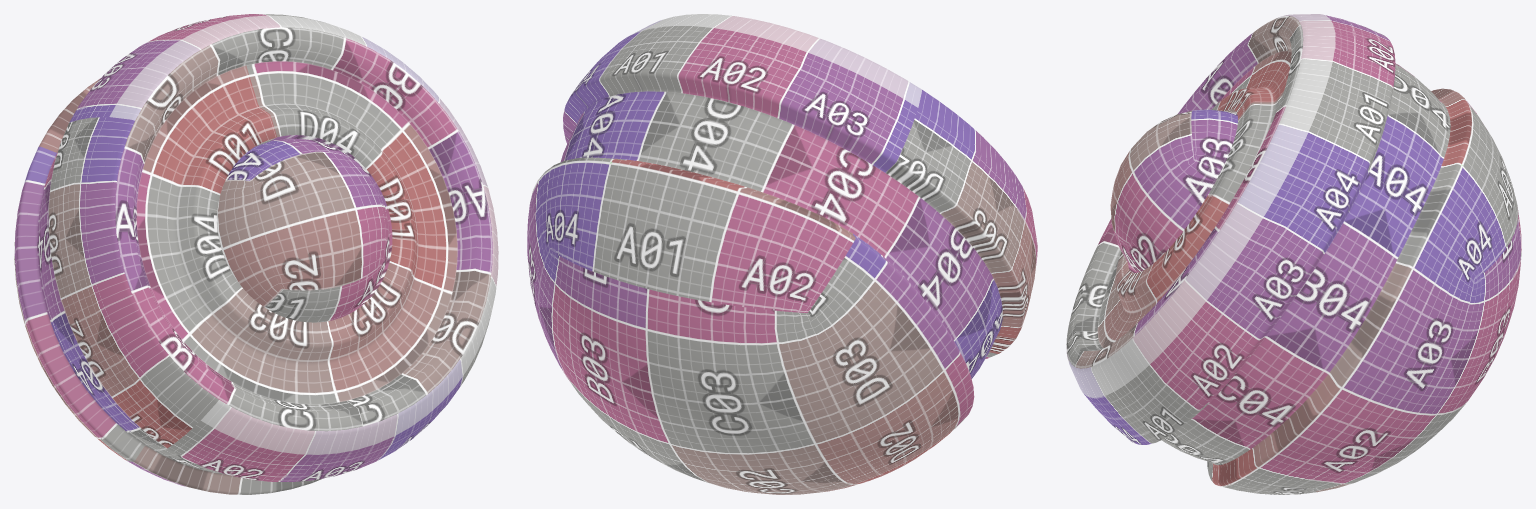
File: placeholder.glb
The picture shows the model from 3 angles, left to right: view 1: azimuth 30°, elevation 25°; view 2: azimuth 150°, elevation 25°; view 3: azimuth 270°, elevation 25°; orthographic projection. The views are drawn at different scales.
Visible parts, largest first — view 1: Cube.004; view 2: Cube.004; view 3: Cube.004.
Boxes of the visible parts, left/top/right/bottom form: Cube.004: left=14, top=14, right=498, bottom=494; Cube.004: left=527, top=14, right=1037, bottom=494; Cube.004: left=1066, top=14, right=1521, bottom=494.
Bounding box in the file's own units: 1.68 × 1.69 × 1.61.
Materials: 1 (1 with a texture image).
